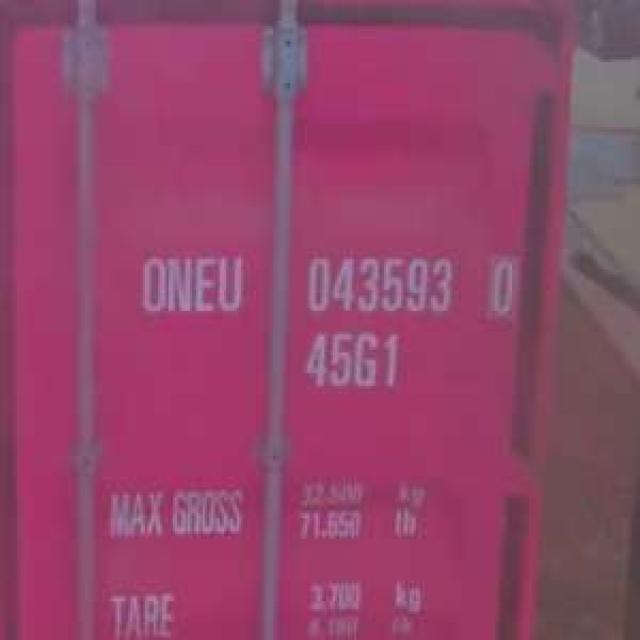dv: (485, 246, 520, 320)
owner: (132, 240, 249, 325)
serial: (301, 246, 458, 320)
size: (298, 326, 405, 394)
